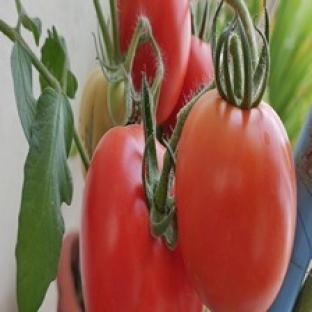Tomato: (176, 91, 296, 311), (81, 126, 201, 311), (163, 35, 214, 136), (80, 67, 126, 157), (58, 232, 83, 311)
